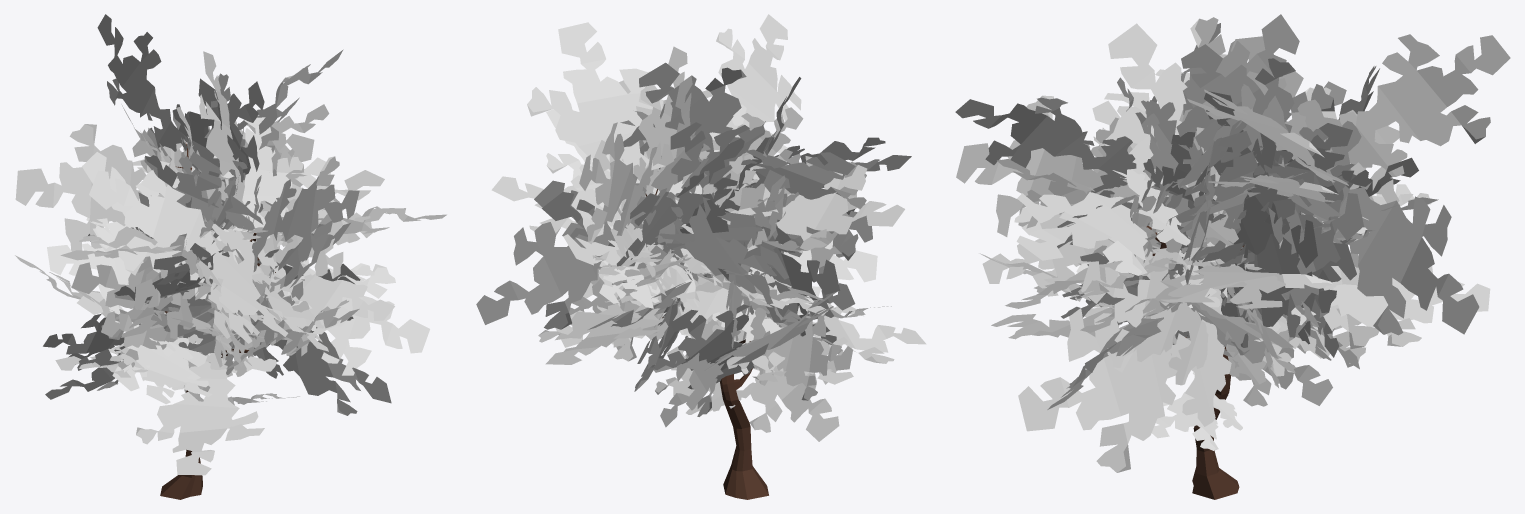
The model's file is Bush 2.fbx.
3 renders of one model, left to right at view 1: azimuth 30°, elevation 25°; view 2: azimuth 150°, elevation 25°; view 3: azimuth 270°, elevation 25°, orthographic. The views are drawn at different scales.
Visible parts, largest first — view 1: Tree Branch.001, Cube; view 2: Tree Branch.001, Cube; view 3: Tree Branch.001, Cube.
Part boxes in pixels (x1,y1,x2,y2): Tree Branch.001: (15, 14, 446, 475); Cube: (160, 142, 275, 499); Tree Branch.001: (476, 14, 926, 441); Cube: (645, 189, 768, 499); Tree Branch.001: (955, 14, 1510, 472); Cube: (1146, 186, 1244, 499).
Bounding box in the file's own units: 69.97 × 79.05 × 79.26.
